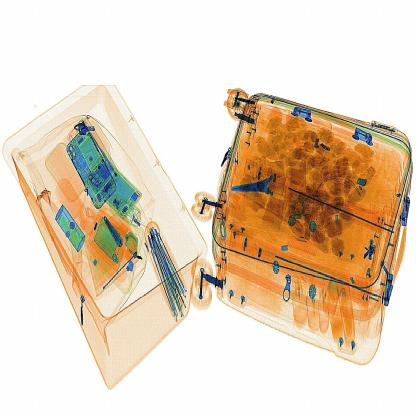gun: (227, 168, 286, 209)
